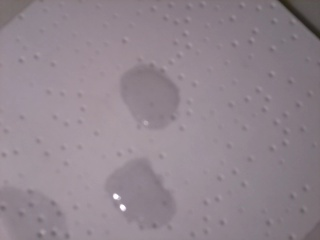Water_detected: (126, 69, 170, 117), (122, 174, 164, 216), (34, 201, 61, 234)
